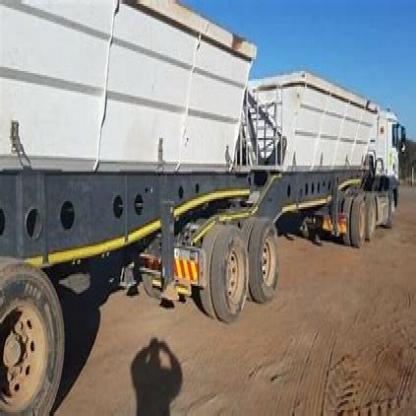dump_truck: (3, 0, 415, 414)
